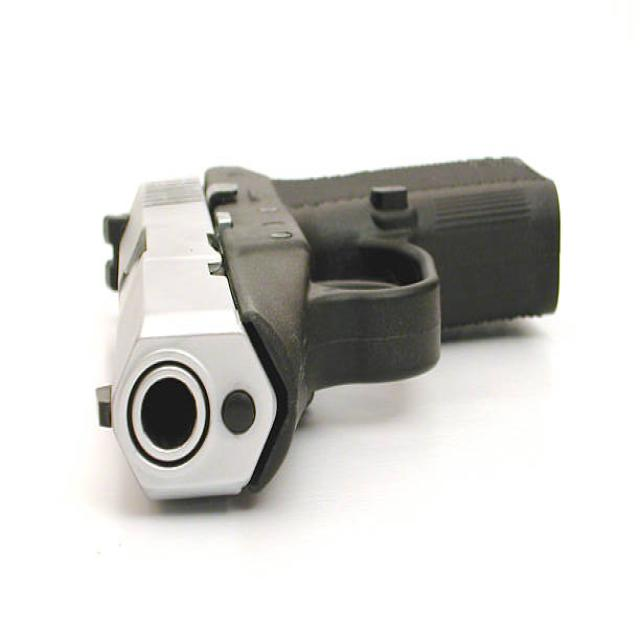pistol: (95, 153, 576, 515)
